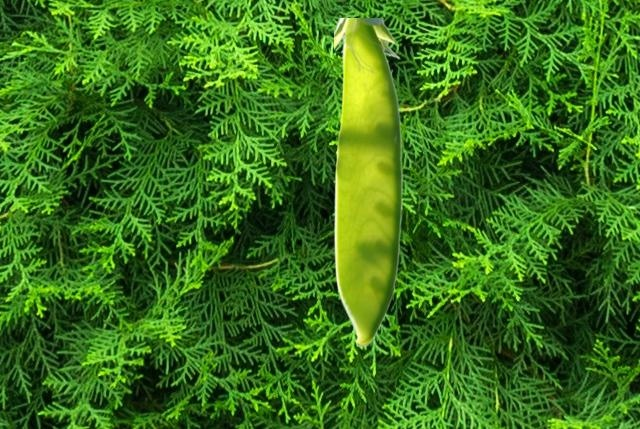pea: (334, 18, 402, 346)
